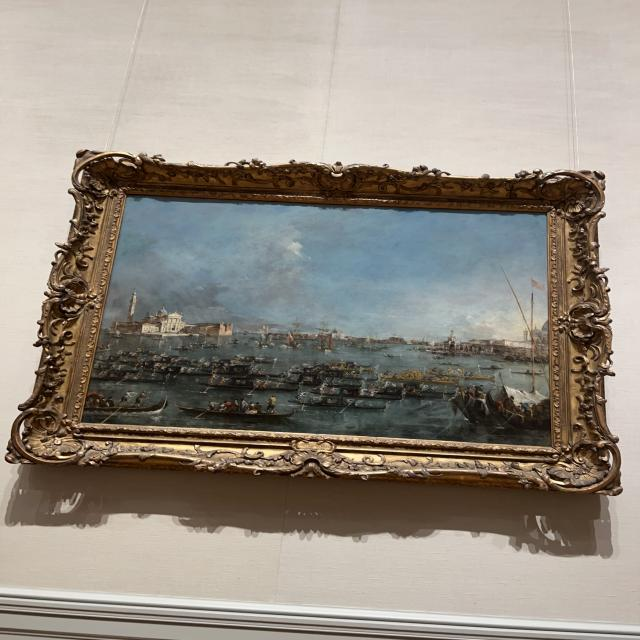ships: (80, 196, 550, 447)
